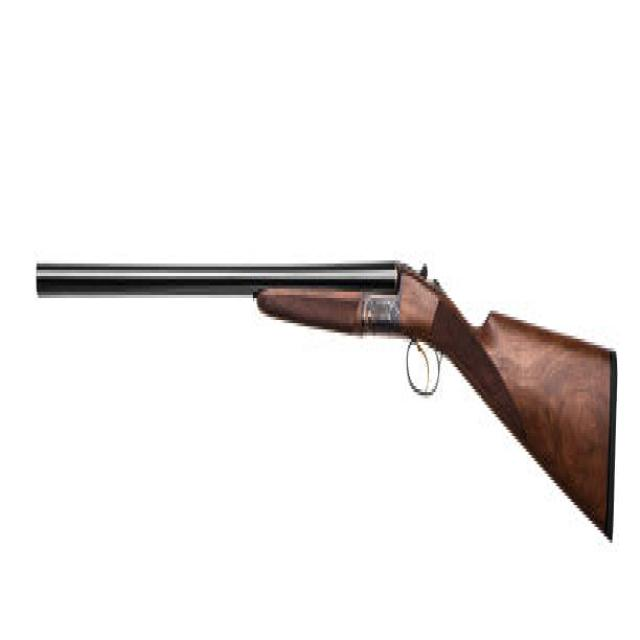rifle: (33, 244, 626, 562)
